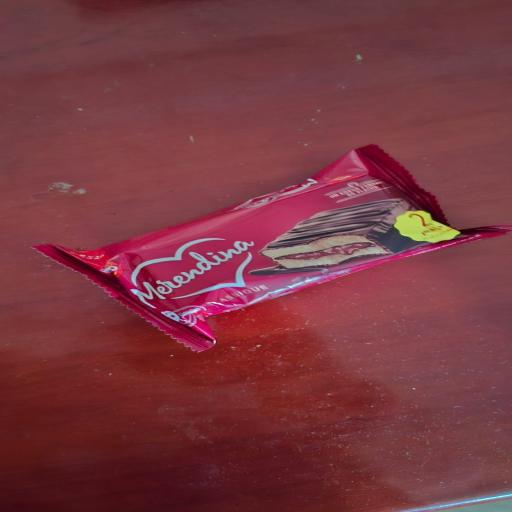merendina: (18, 125, 500, 359)
